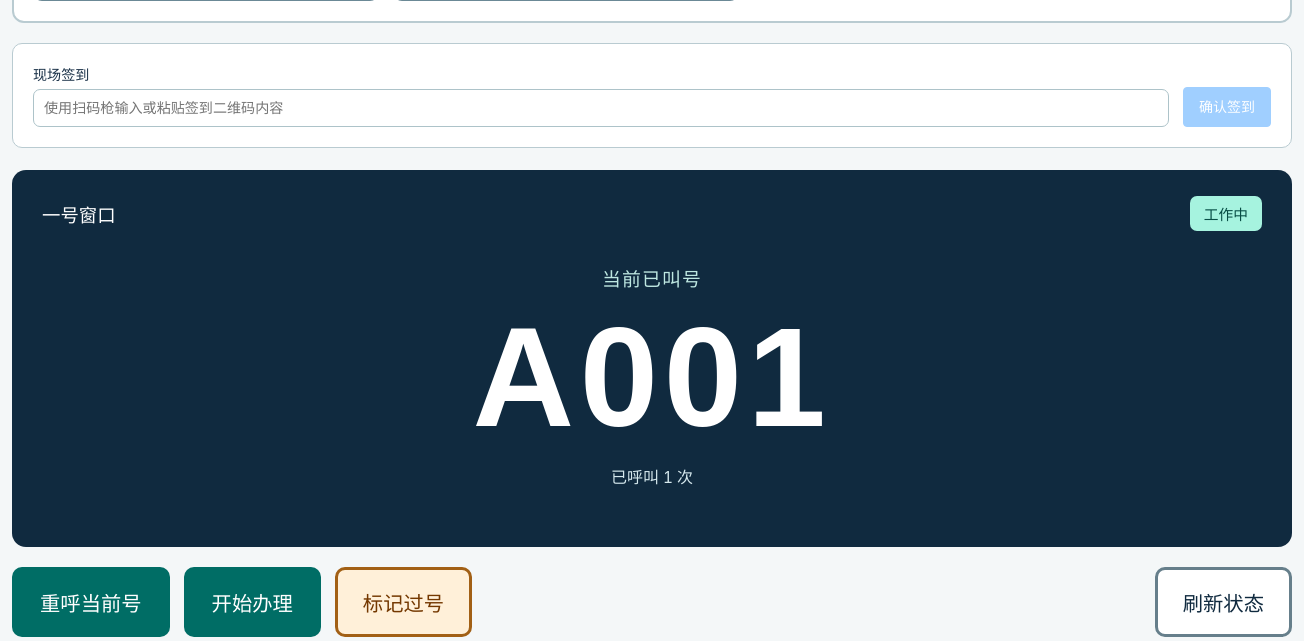
WorkbenchView › refreshes the current ticket after a state conflict
(page scrolled)
Click the button "标记过号" at [403, 602], box [335,567,472,637]
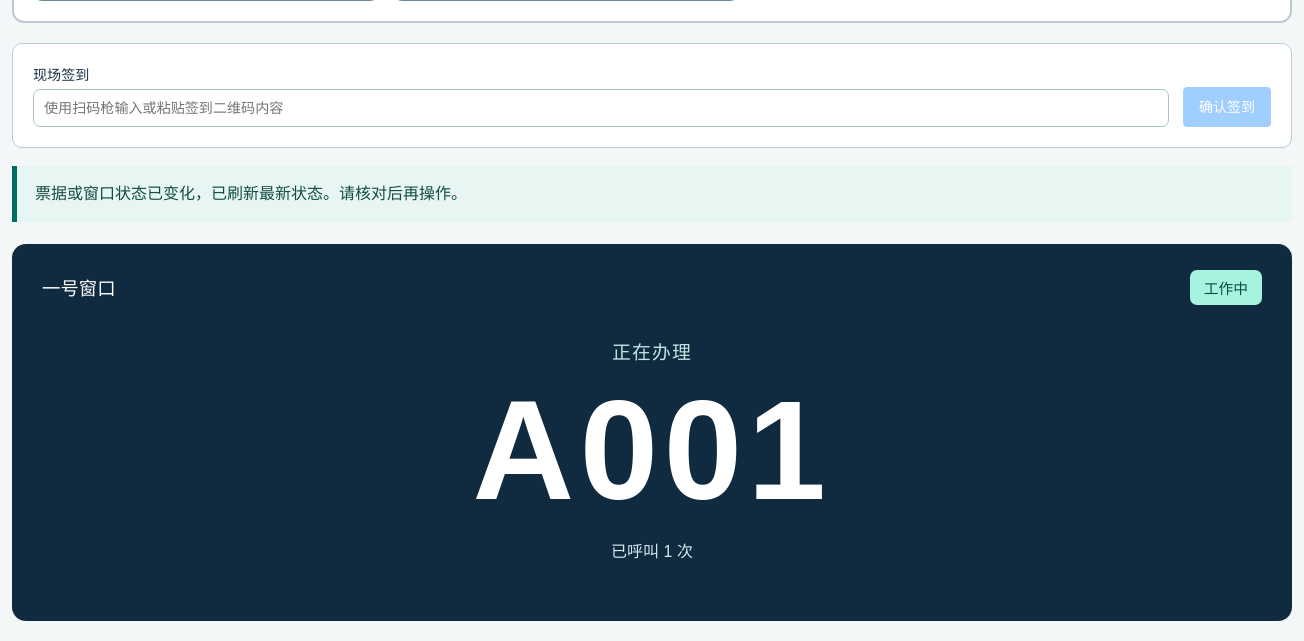
Check: the text "状态已变化" is shown, box [35,185,467,202]
